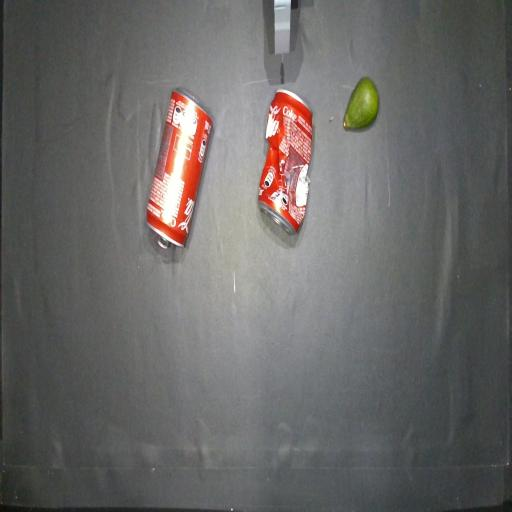higo: (343, 77, 379, 129)
lata: (147, 88, 213, 248)
lata_defectuoso: (258, 89, 313, 234)
